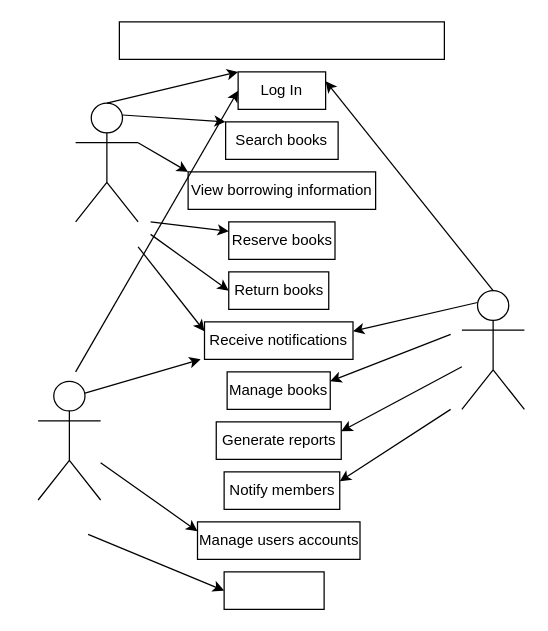
Some shapes in this 548 by 631 pixel diagram are drawn without their labels. Each missing label, with the centre of its shape:
"Administrators" belongs at point 69,440.
"Librarians" belongs at point 492,349.
"Members" belongs at point 106,162.
"Set penalties" belongs at point 273,590.
"Smart library management system" belongs at point 281,40.
